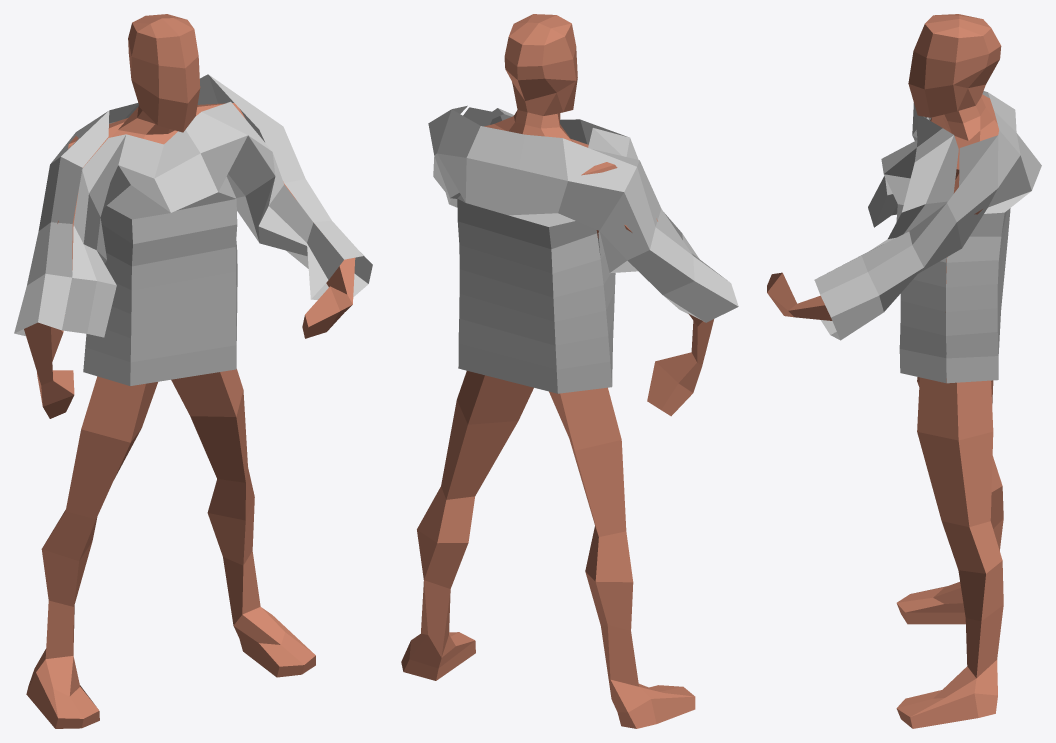
Rendered from YoinnkedLowPolyGuy1.obj.
3 views of the same model, side by side, from view 1: azimuth 30°, elevation 25°; view 2: azimuth 150°, elevation 25°; view 3: azimuth 270°, elevation 25° (orthographic). The views are drawn at different scales.
Visible parts, largest first — view 1: Plane, BASE_Low_Poly_Man; view 2: Plane, BASE_Low_Poly_Man; view 3: Plane, BASE_Low_Poly_Man.
Boxes of the visible parts, left/top/right/bottom form: Plane: left=14, top=74, right=372, bottom=385; BASE_Low_Poly_Man: left=24, top=14, right=355, bottom=728; Plane: left=428, top=105, right=738, bottom=393; BASE_Low_Poly_Man: left=401, top=14, right=713, bottom=728; Plane: left=814, top=91, right=1041, bottom=383; BASE_Low_Poly_Man: left=767, top=14, right=1003, bottom=728.
Bounding box in the file's own units: 2.88 × 5.73 × 2.2.
